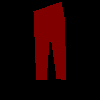abbigliamento_uomo: (33, 1, 66, 80)
